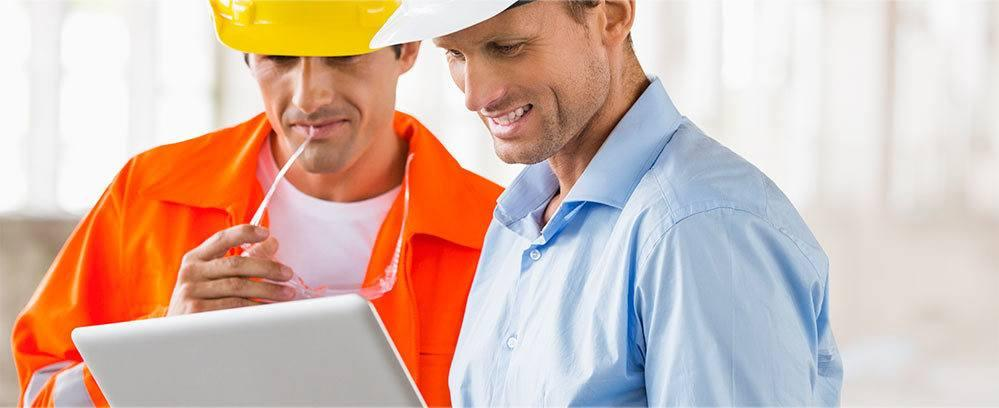helmet: (373, 1, 641, 53), (211, 1, 417, 58)
